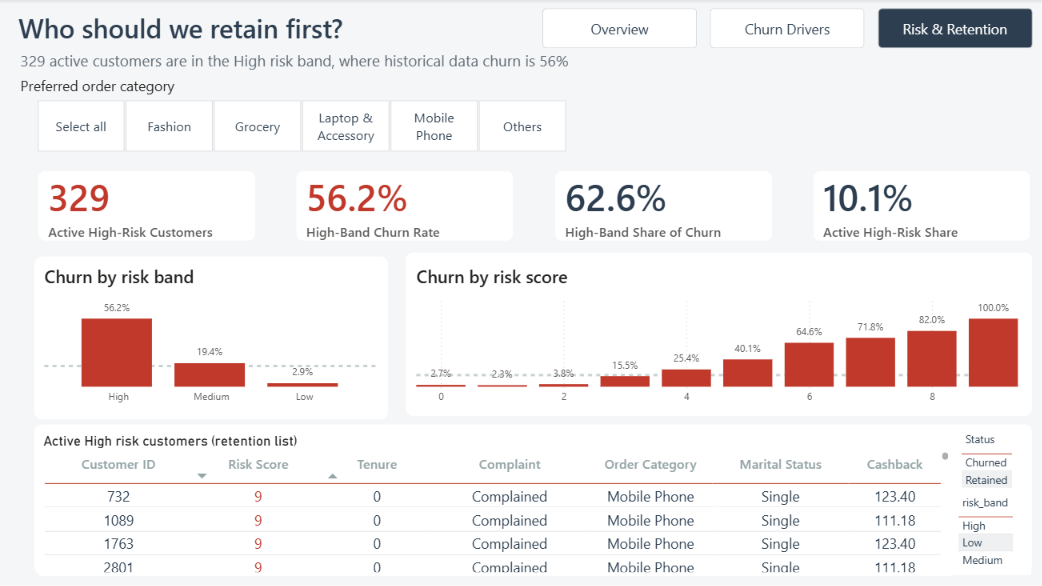

This screenshot's page, from the dashboard's own definition file:
{"tool":"powerbi","page":{"name":"Risk & Retention","canvas":[1280,720],"ordinal":2},"visuals":[{"type":"shape","box":[44.3,519.9,1219.8,184],"z":0},{"type":"shape","box":[497.7,309.4,766.7,200.5],"z":1000},{"type":"shape","box":[44.3,314.4,432.6,200.2],"z":2000},{"type":"clusteredColumnChart","title":"Churn by risk band ","fields":{"Category":["customer_risk.risk_band"],"Y":["_Measures.Churn Rate"]},"box":[51,323.8,419.1,180],"z":3000},{"type":"columnChart","title":"Churn by risk score","fields":{"Category":["customer_risk.risk_score"],"Y":["_Measures.Churn Rate"]},"box":[506.5,323.8,745.6,180],"z":4000},{"type":"tableEx","title":"Active High risk customers (retention list)","fields":{"Values":["customer_risk.customer_id","customer_risk.risk_score","customer_risk.tenure","customer_risk.Complaint Status","customer_risk.preferred_order_cat","customer_risk.marital_status","customer_risk.cashback_amount"]},"box":[50.6,528.9,1116.8,175.8],"z":5000},{"type":"textbox","box":[19.6,8.6,720.2,57.5],"z":6000},{"type":"textbox","box":[21.5,58,760.4,34.9],"z":7000},{"type":"slicer","title":"Preferred order category","fields":{"Values":["customer_risk.preferred_order_cat"]},"box":[22,94.2,695.8,99],"z":8000},{"type":"pageNavigator","box":[664.7,10.9,599.6,49.5],"z":9000},{"type":"cardVisual","fields":{"Data":["_Measures.Active High-Risk Customers"]},"box":[31.8,193.2,299.6,119.8],"z":10000},{"type":"cardVisual","fields":{"Data":["_Measures.High-Band Churn Rate"]},"box":[347.7,193.2,299.6,119.8],"z":11000},{"type":"cardVisual","fields":{"Data":["_Measures.High-Band Share of Churn"]},"box":[663.6,193.2,299.6,119.8],"z":12000},{"type":"cardVisual","fields":{"Data":["_Measures.Active High-Risk Share"]},"box":[979.5,193.2,299.6,119.8],"z":13000},{"type":"tableEx","fields":{"Values":["customer_risk.Status"]},"box":[1171.7,521.8,91.4,90],"z":14000},{"type":"tableEx","fields":{"Values":["customer_risk.risk_band"]},"box":[1167.8,599.2,95.4,105.2],"z":15000}]}

Visuals, with their boxes in screenshot pixels (x1, y1, x2, y2), scaled from the page's 1280x720 canvas onto the 1042x586 screenshot:
shape: <box>36,423,1029,573</box>
shape: <box>405,252,1029,415</box>
shape: <box>36,256,388,419</box>
"Churn by risk band " clusteredColumnChart: <box>42,264,383,410</box>
"Churn by risk score" columnChart: <box>412,264,1019,410</box>
"Active High risk customers (retention list)" tableEx: <box>41,430,950,574</box>
textbox: <box>16,7,602,54</box>
textbox: <box>18,47,637,76</box>
"Preferred order category" slicer: <box>18,77,584,157</box>
pageNavigator: <box>541,9,1029,49</box>
cardVisual - _Measures.Active High-Risk Customers: <box>26,157,270,255</box>
cardVisual - _Measures.High-Band Churn Rate: <box>283,157,527,255</box>
cardVisual - _Measures.High-Band Share of Churn: <box>540,157,784,255</box>
cardVisual - _Measures.Active High-Risk Share: <box>797,157,1041,255</box>
tableEx - customer_risk.Status: <box>954,425,1028,498</box>
tableEx - customer_risk.risk_band: <box>951,488,1028,573</box>
